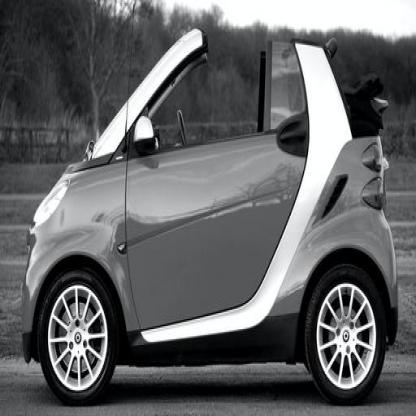Tire: (304, 260, 387, 406), (38, 259, 118, 406)
